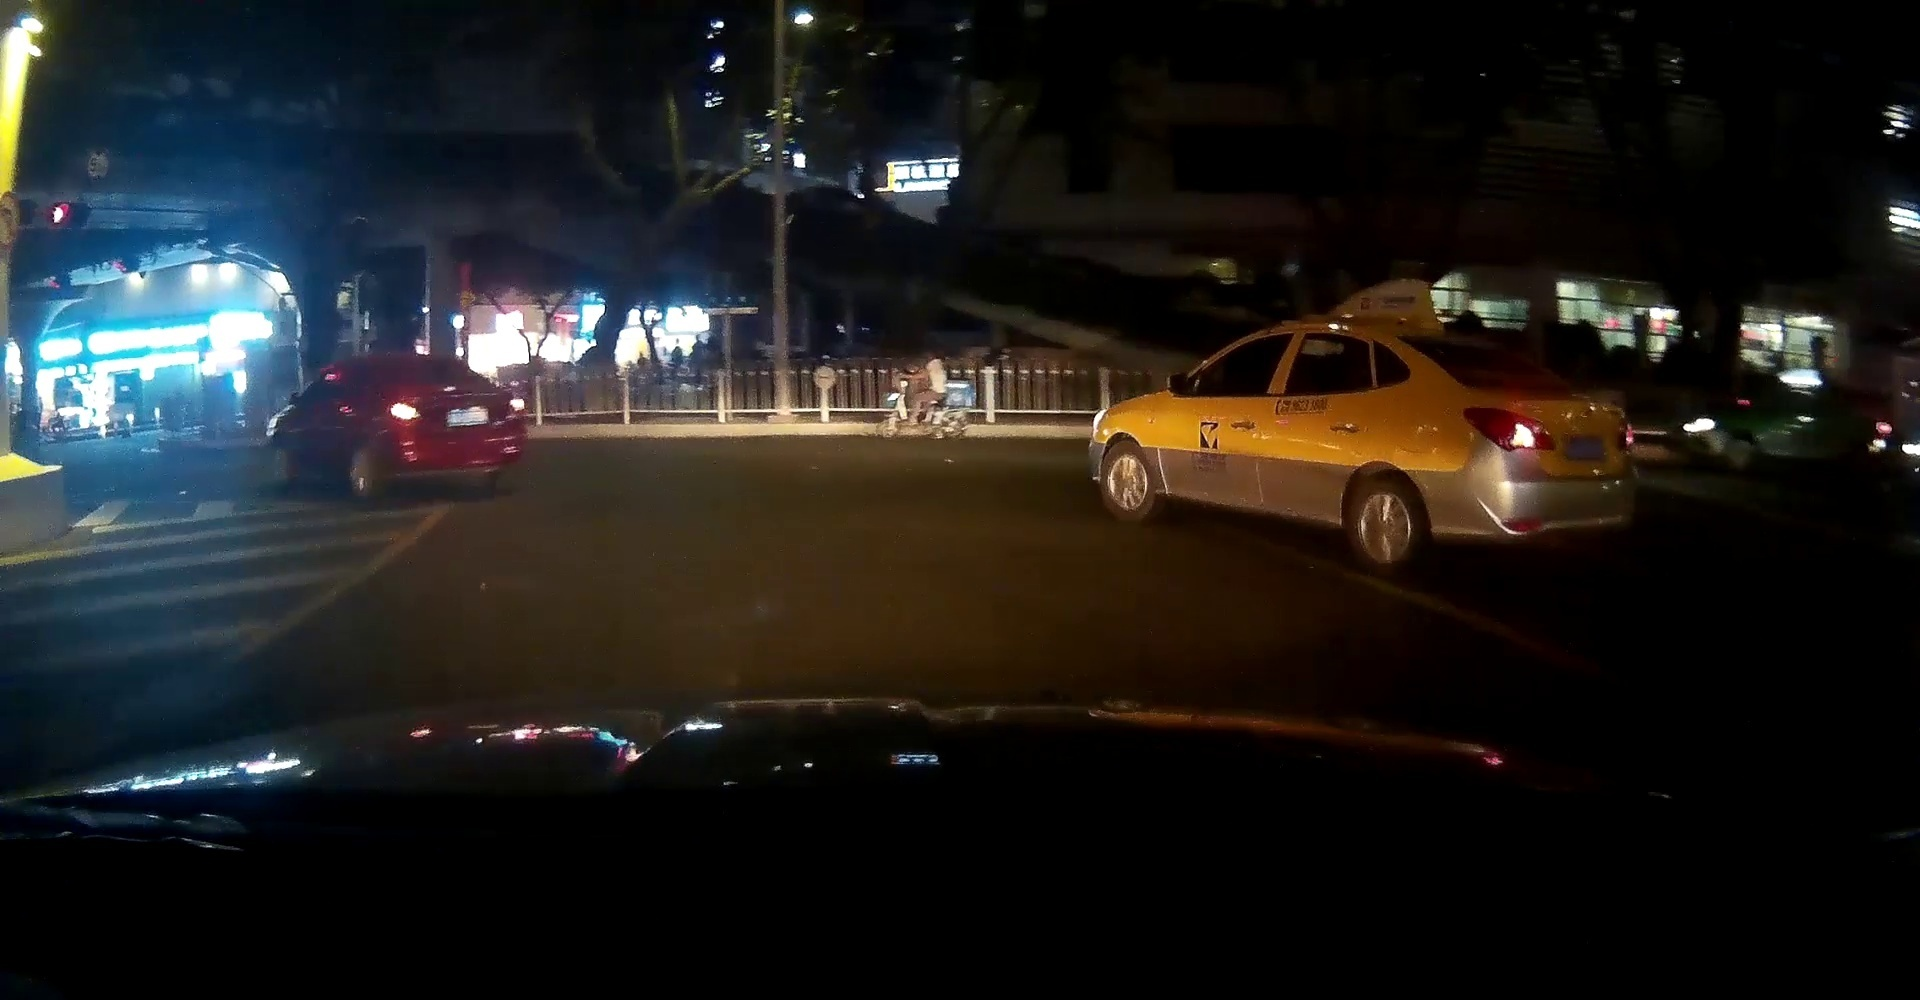L_light: (1465, 407, 1556, 456), (387, 402, 422, 420)
R_light: (1623, 418, 1638, 445), (507, 397, 526, 412)
T_light: (1451, 339, 1488, 346), (413, 357, 439, 365)
night-no: (1360, 322, 1641, 574), (362, 350, 530, 497)
